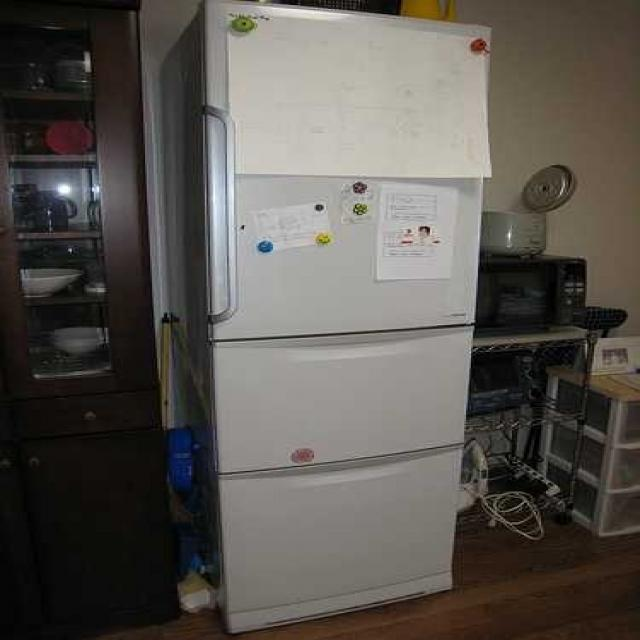refrigerator: (204, 0, 496, 639)
